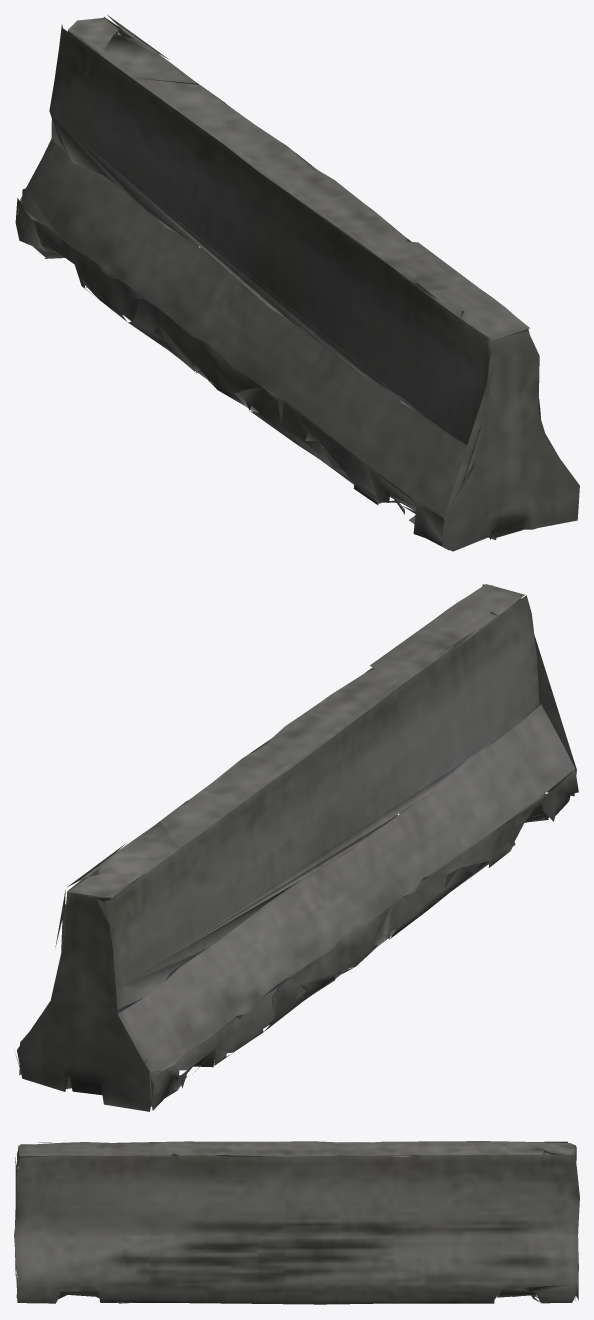
Rendered from drift_betonblock.glb.
3 renders of one model, top to bottom at view 1: azimuth 30°, elevation 25°; view 2: azimuth 150°, elevation 25°; view 3: azimuth 270°, elevation 25°, orthographic. The views are drawn at different scales.
Visible parts, largest first — view 1: Prop; view 2: Prop; view 3: Prop.
Boxes of the visible parts, box(x1,y1,x2,y2) form: Prop: box(15, 15, 579, 551); Prop: box(15, 584, 578, 1111); Prop: box(14, 1141, 579, 1304).
Bounding box in the file's own units: 0.7542 × 1.03 × 3.79.
Materials: 1 (1 with a texture image).
